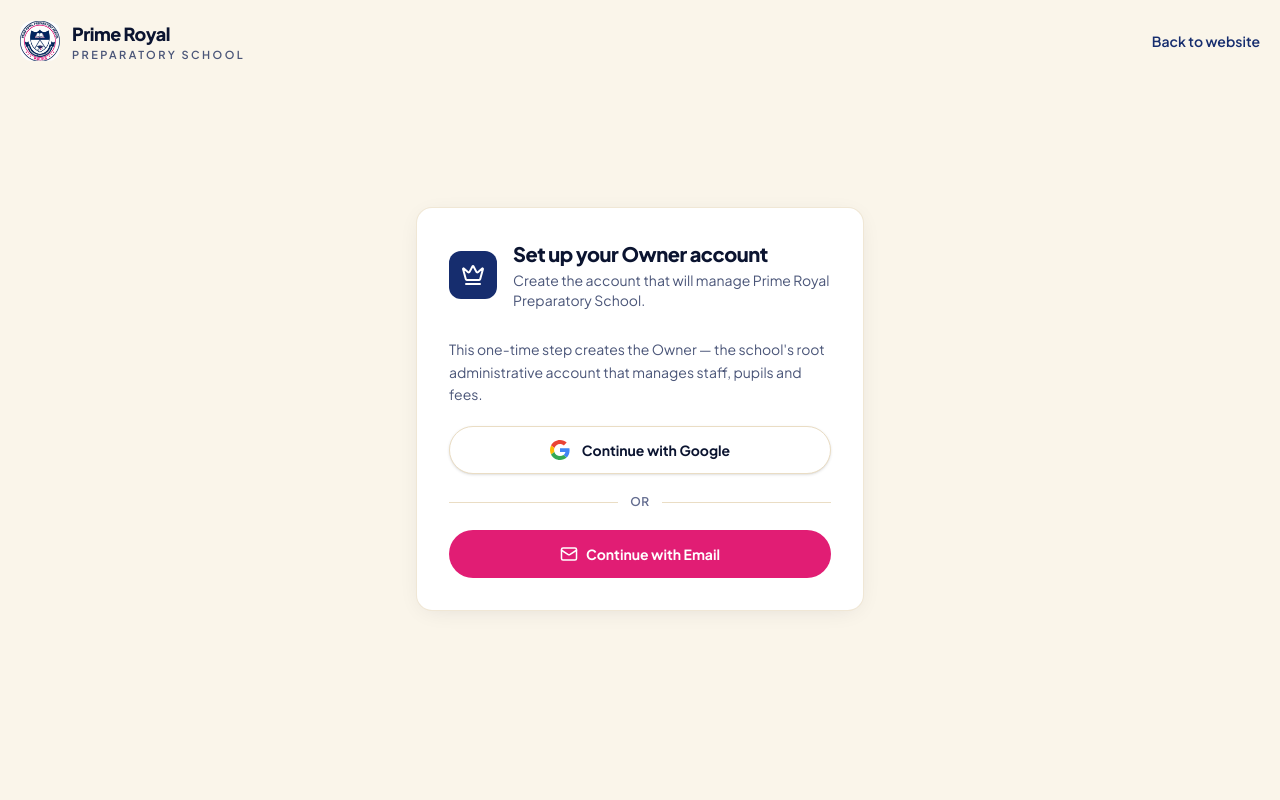
Test case: OwnerSetupPage › shows validation errors for an invalid form
The width and height of the screenshot is (1280, 800).
Click the button "Continue with Email" at (640, 554), box x1=449 y1=530 x2=831 y2=578
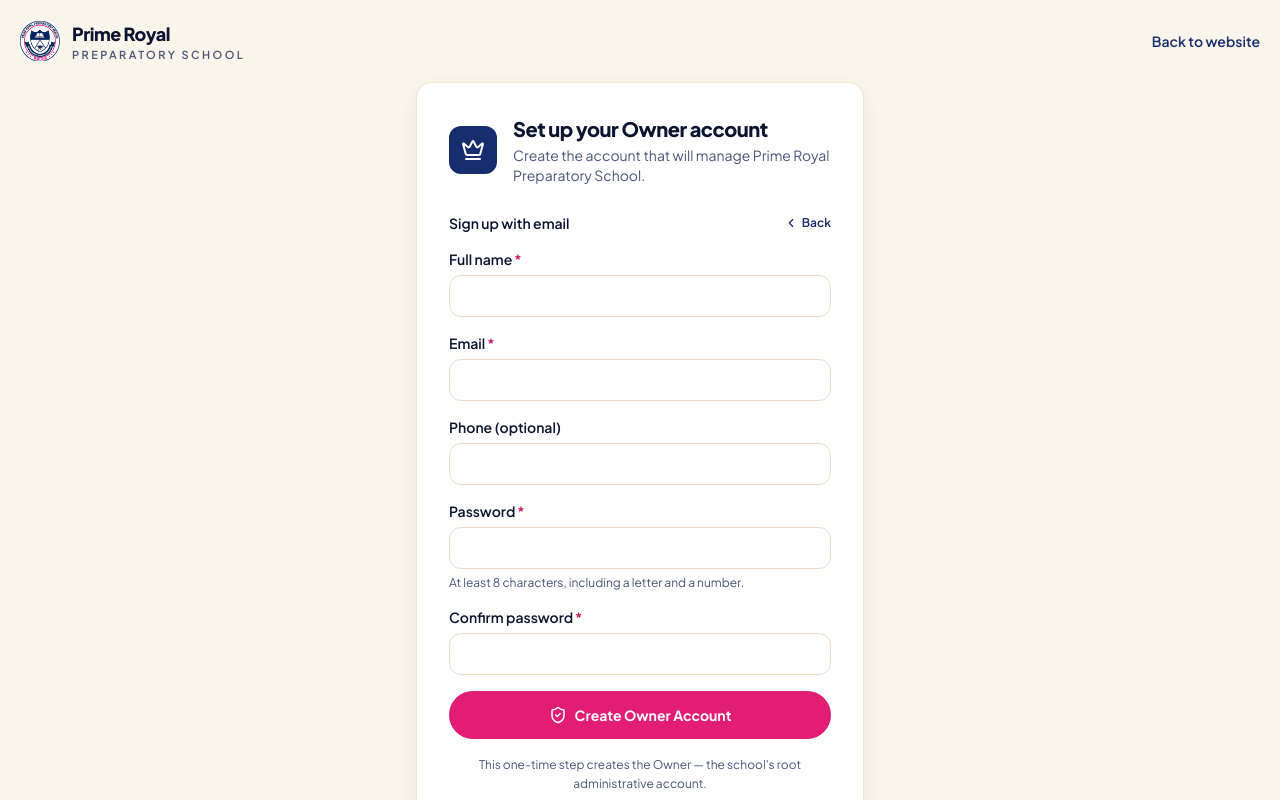
Type "not-an-email" into the field labelled "Email*" at (640, 380), box x1=449 y1=359 x2=831 y2=401
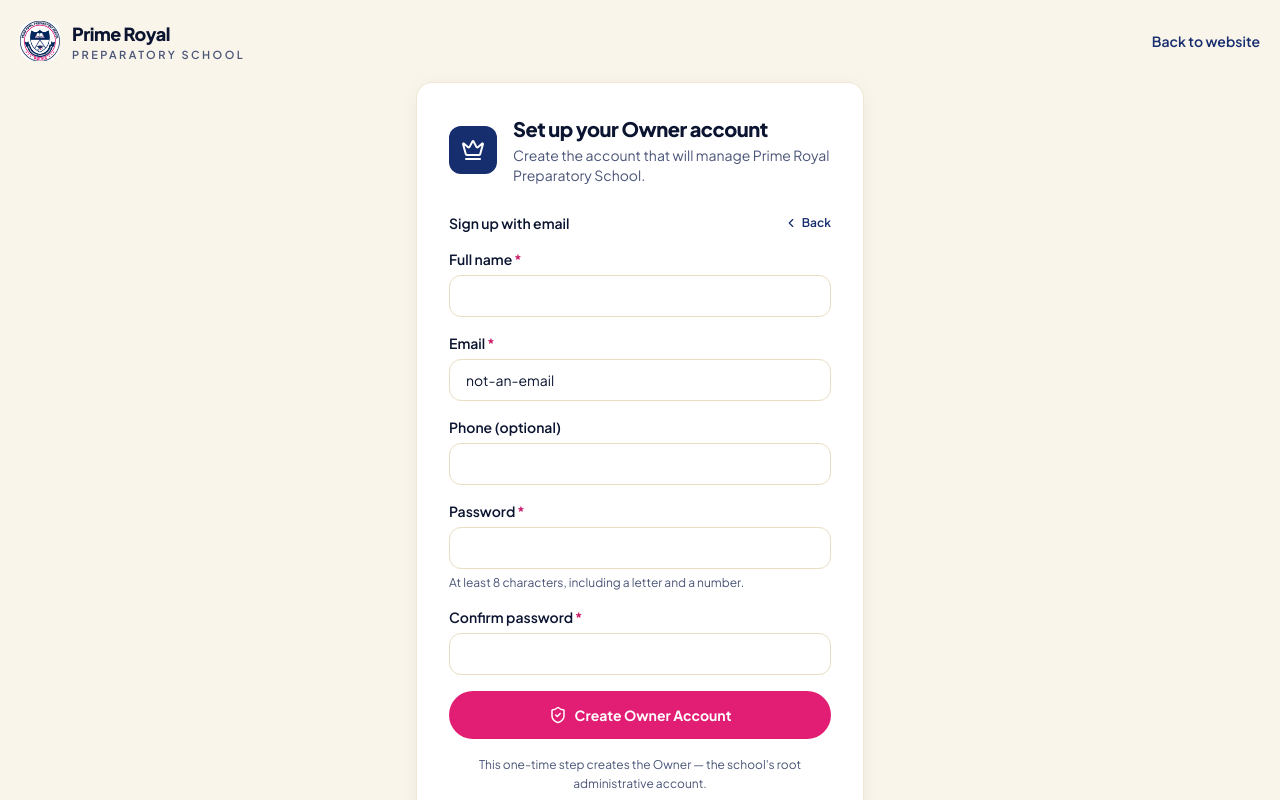
Click the button "Create Owner Account" at (640, 715), box x1=449 y1=691 x2=831 y2=739
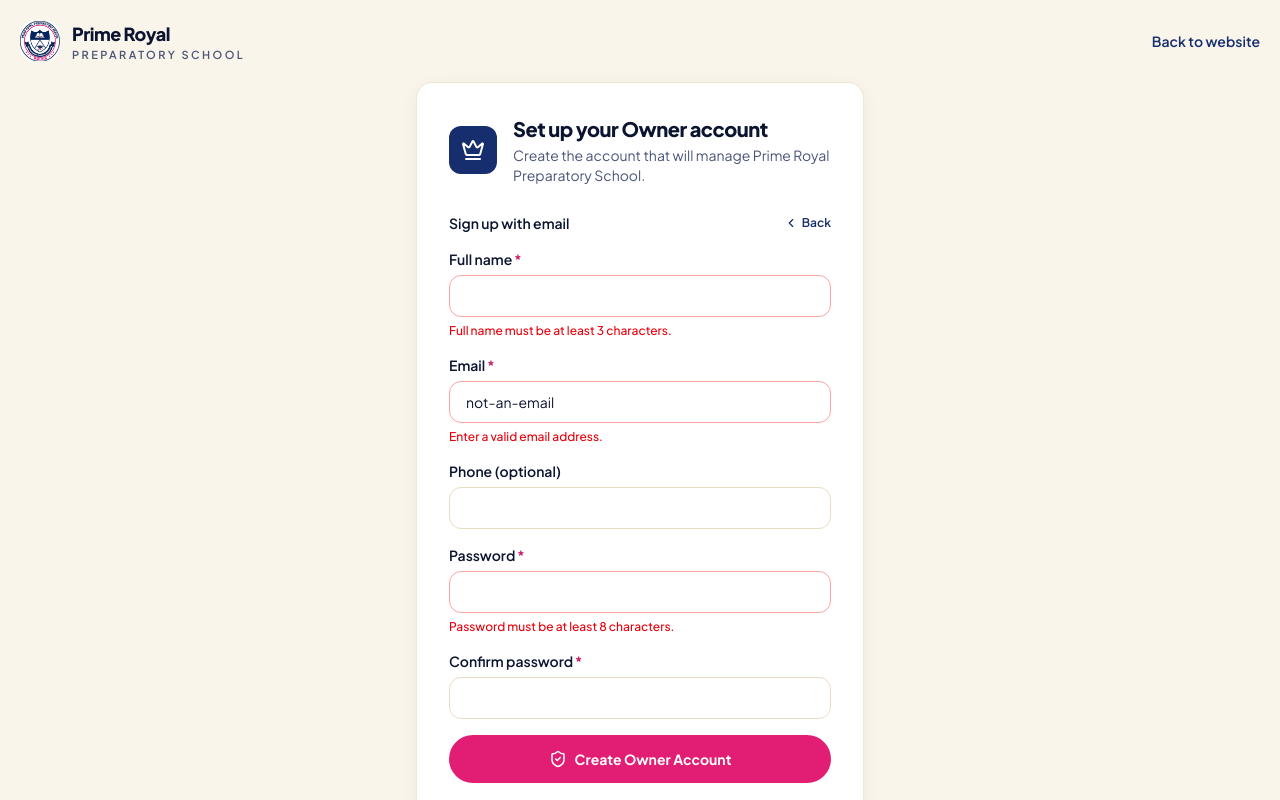
Now the text "Full name must be at least 3 characters." is shown, box x1=449 y1=323 x2=672 y2=338
Now the text "Enter a valid email address." is shown, box x1=449 y1=429 x2=603 y2=444
